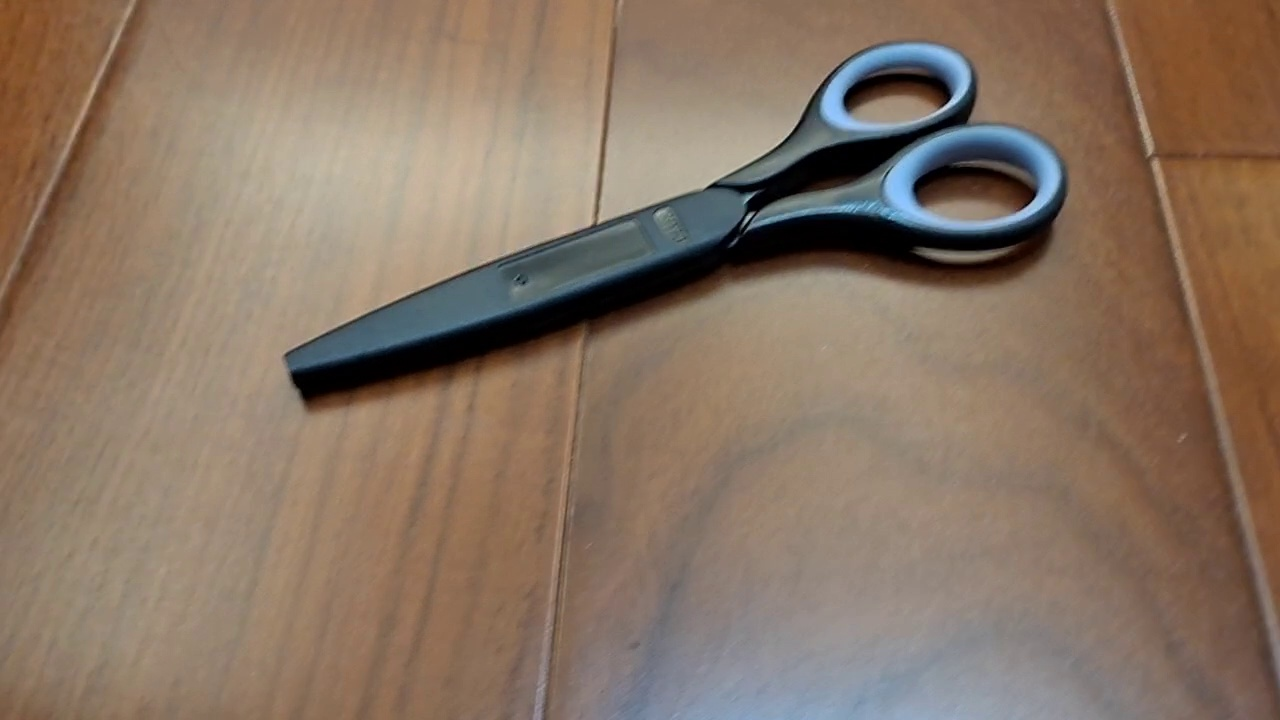scissors: (281, 38, 1069, 403)
